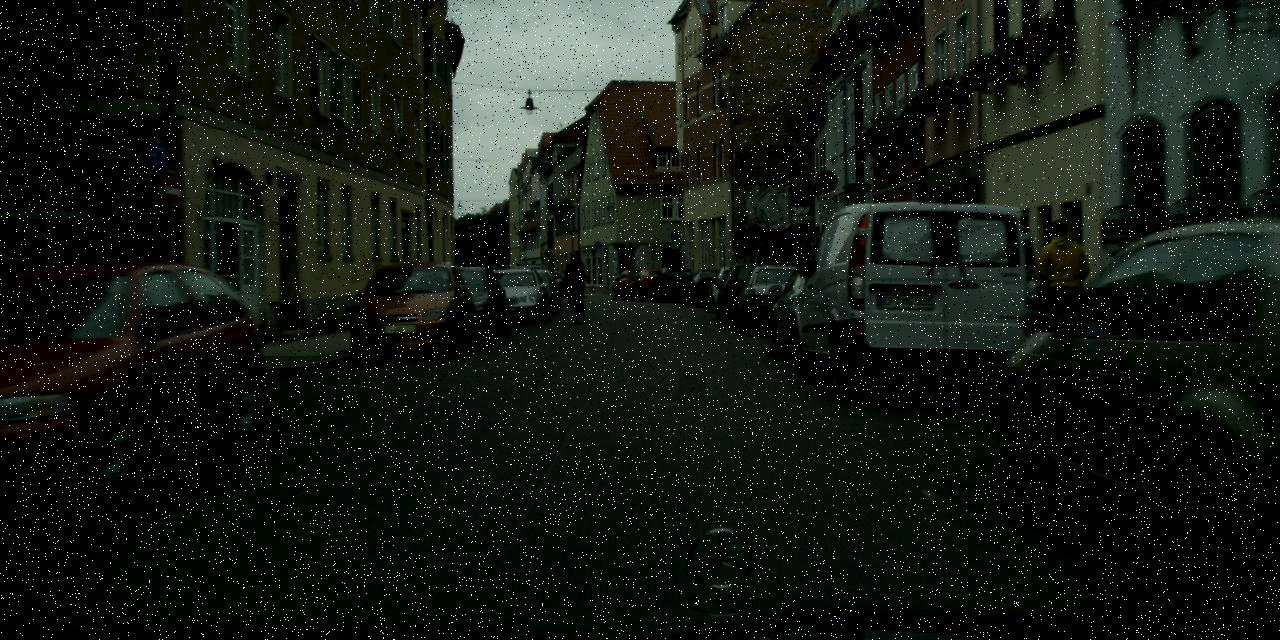ped: (1031, 218, 1095, 374), (564, 255, 586, 311)
